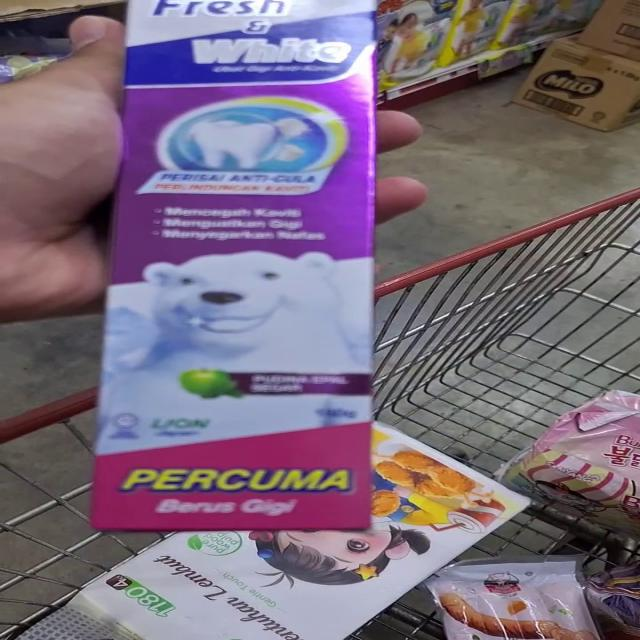Tisu: (71, 529, 391, 640), (391, 427, 529, 566)
Ubat Gigi: (65, 229, 381, 531), (98, 0, 410, 293)
